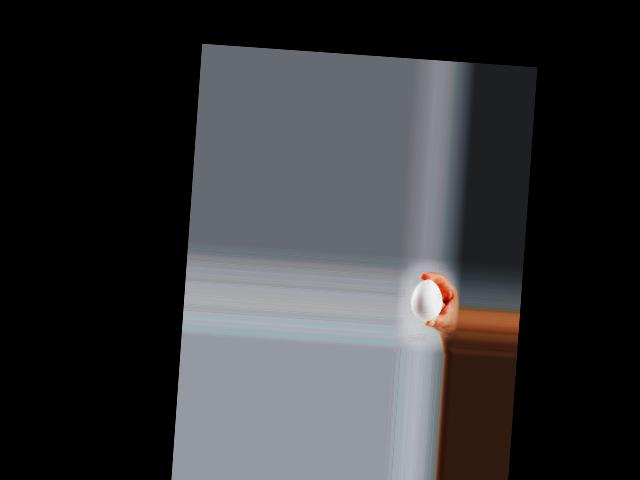egg: (410, 278, 444, 321)
